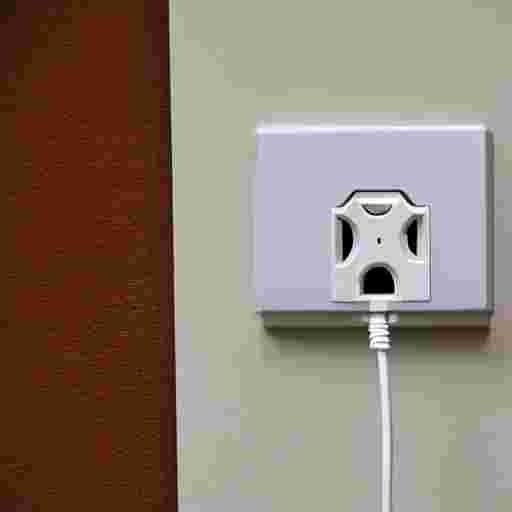power outlet: (255, 125, 492, 311)
